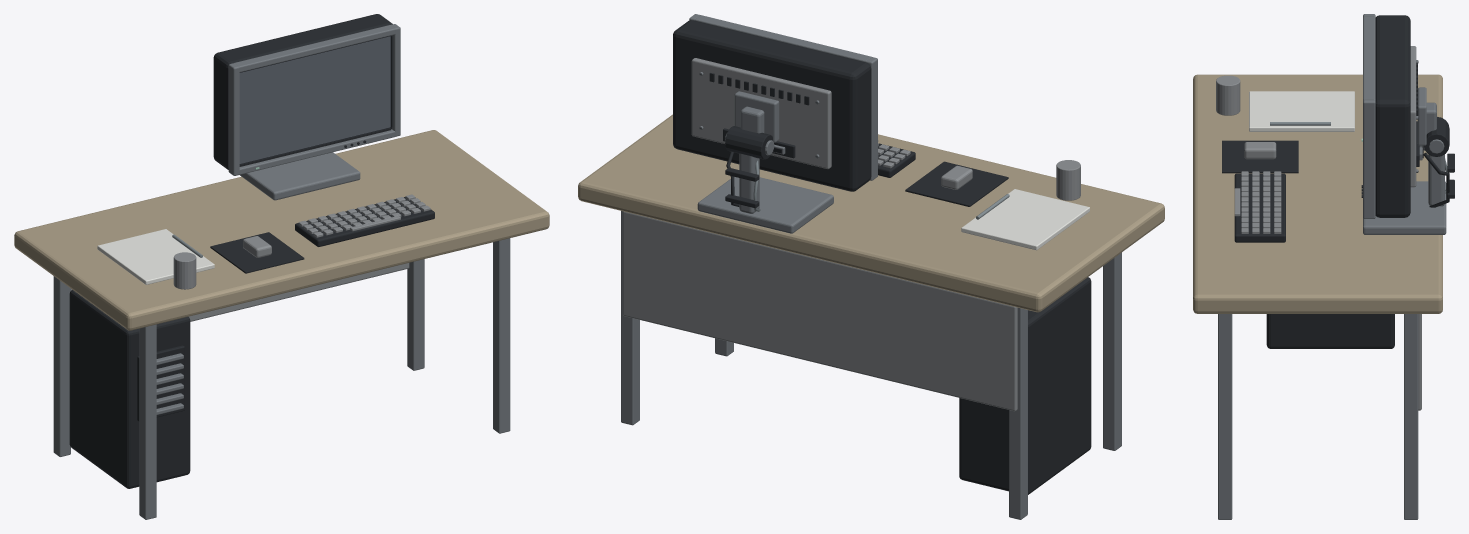
Rendered from BL_ResearchDesk.fbx.
The picture shows the model from 3 angles, left to right: view 1: azimuth 30°, elevation 25°; view 2: azimuth 150°, elevation 25°; view 3: azimuth 270°, elevation 25°; orthographic projection. The views are drawn at different scales.
Visible parts, largest first — view 1: BL_ResearchDesk_LOD0; view 2: BL_ResearchDesk_LOD0; view 3: BL_ResearchDesk_LOD0.
Boxes of the visible parts, x1,y1,x2,y2 form: BL_ResearchDesk_LOD0: (14, 14, 549, 519); BL_ResearchDesk_LOD0: (578, 14, 1164, 519); BL_ResearchDesk_LOD0: (1193, 14, 1454, 519).
Size of what is drawn, in the model's own units: 165 by 136 by 81.7.
